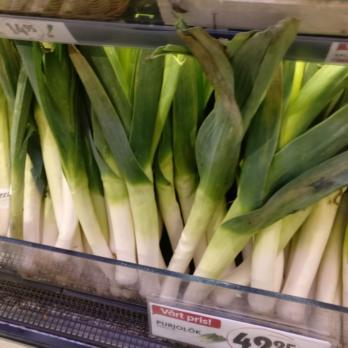Leek Leaves: (0, 38, 347, 235)
